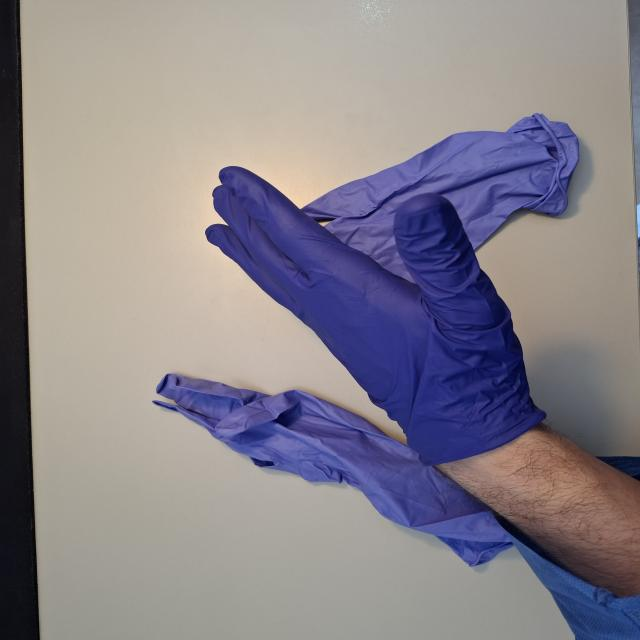glove_on: (202, 163, 544, 470)
